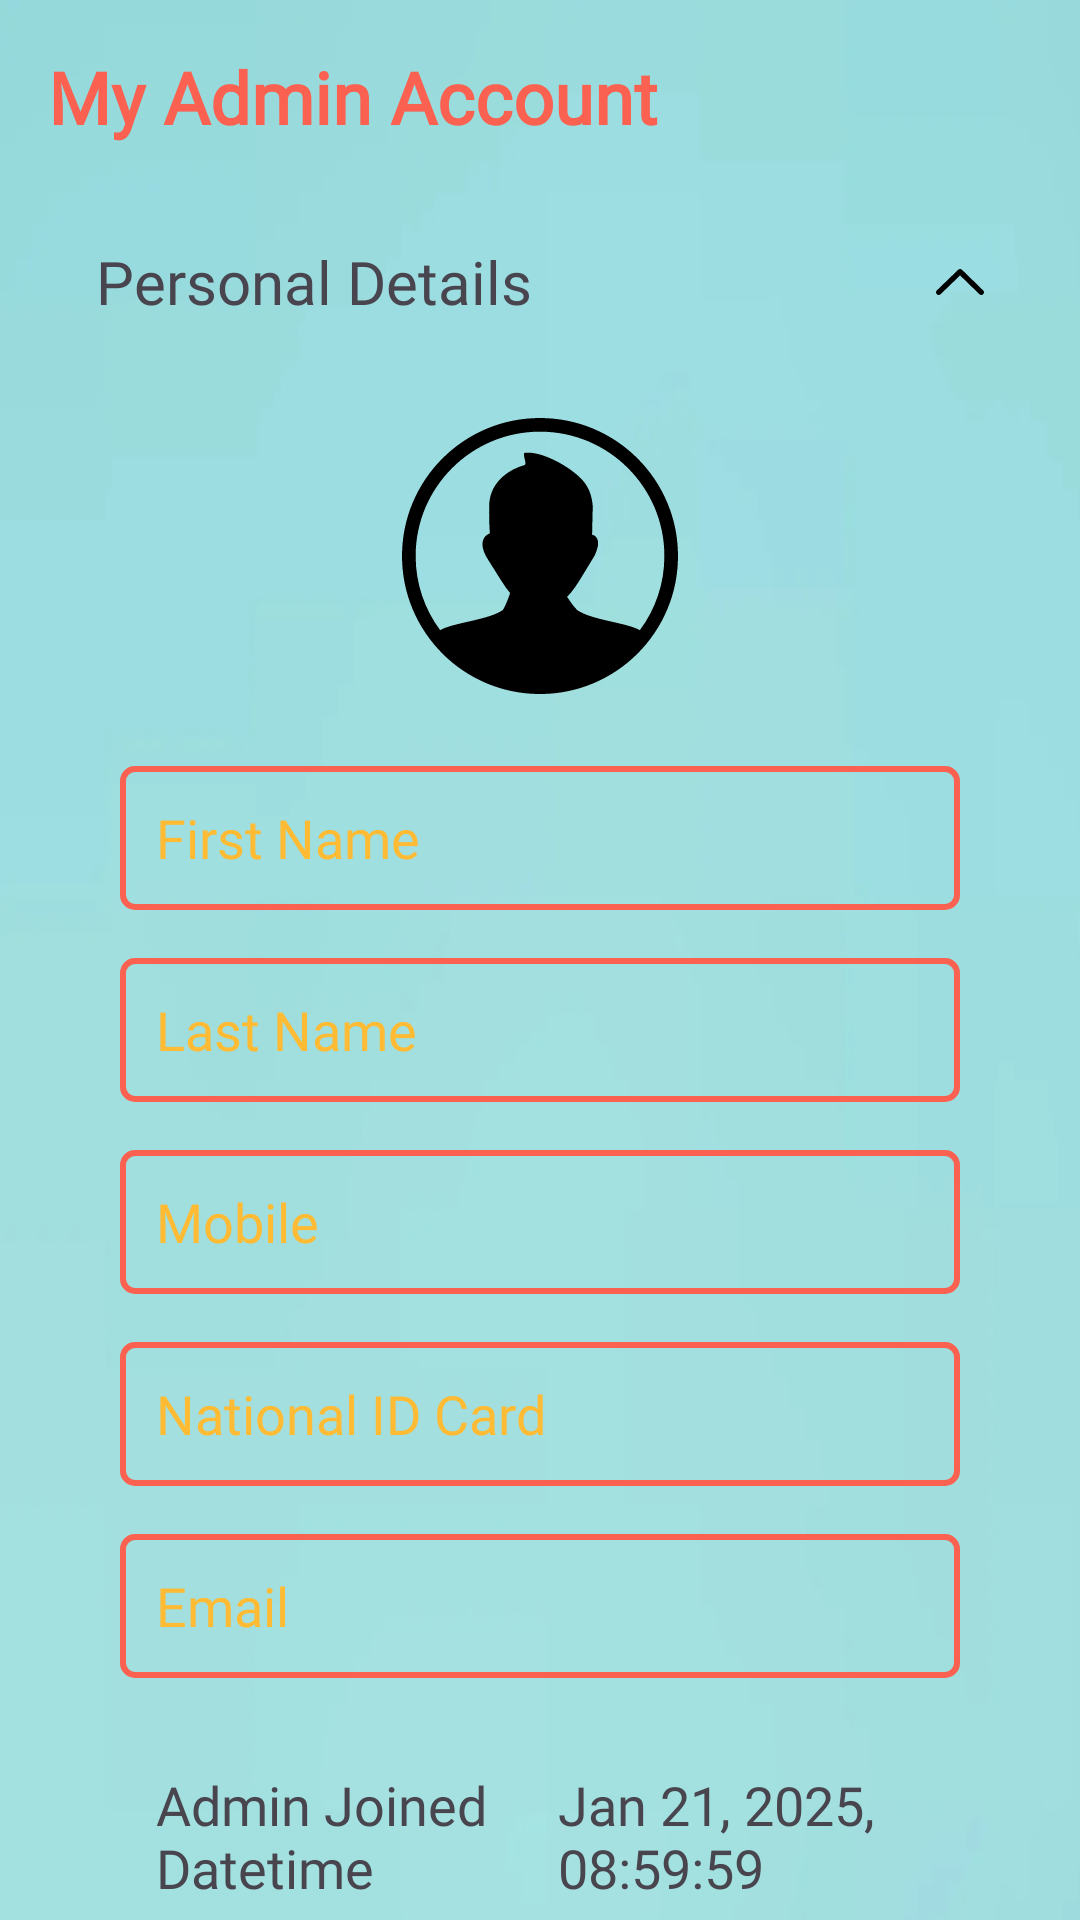

Icons on this 1080 x 1920 Android screen, each with its box as (x1, y1, x2, y2):
arrow up: (936, 269, 984, 295)
profile: (402, 418, 678, 694)
